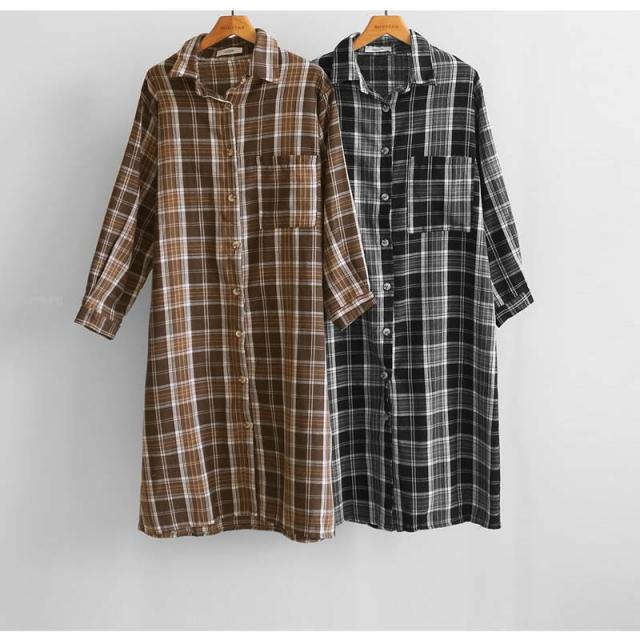plaid: (88, 45, 364, 548), (310, 29, 543, 551)
